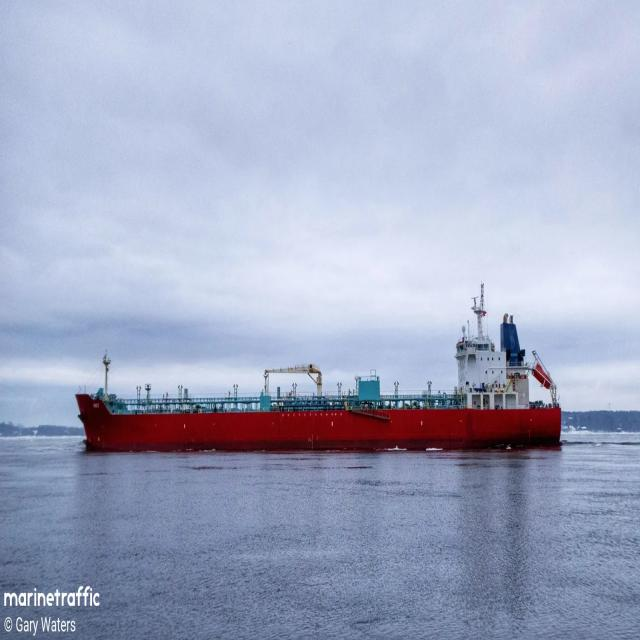Tanker: (76, 285, 561, 451)
